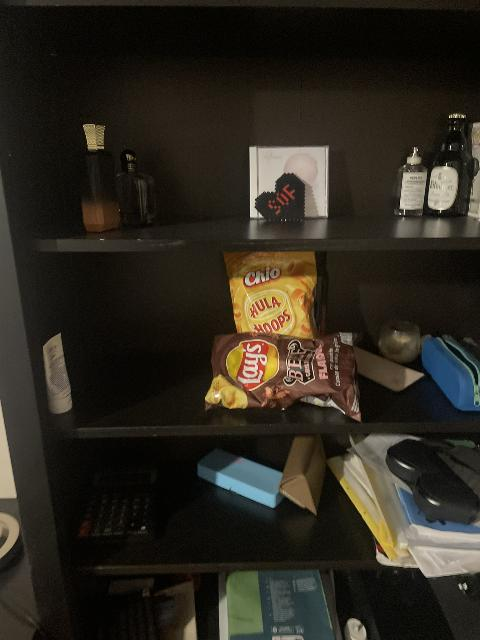Chio Hula Hoops Cheese 70g: (224, 254, 322, 337)
Lays Beef Grilled Ribs 125g: (208, 331, 361, 414)
